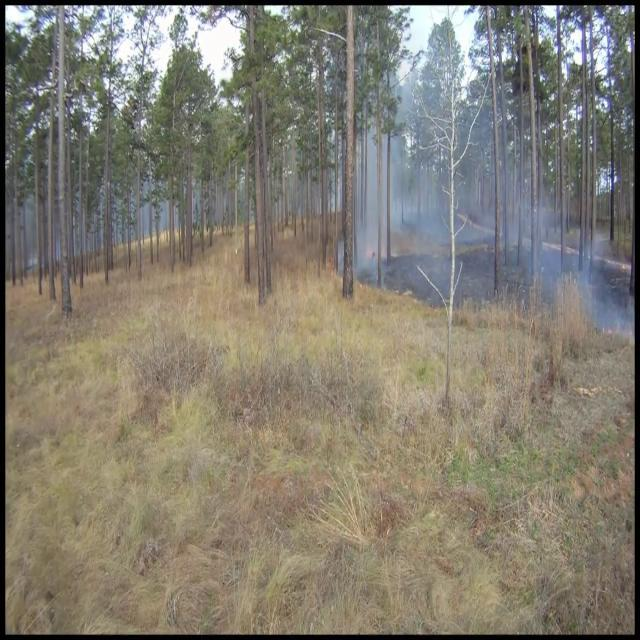Smoke: (520, 178, 626, 338), (348, 109, 420, 284)
